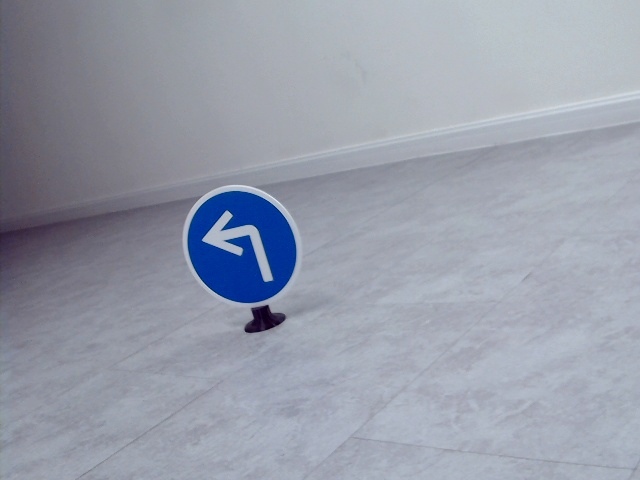turn_left: (201, 205, 276, 281)
